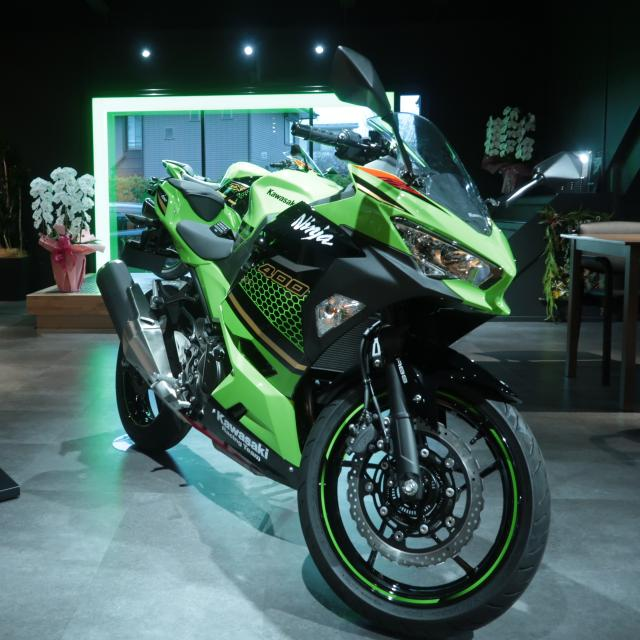Bike: (98, 46, 603, 640)
